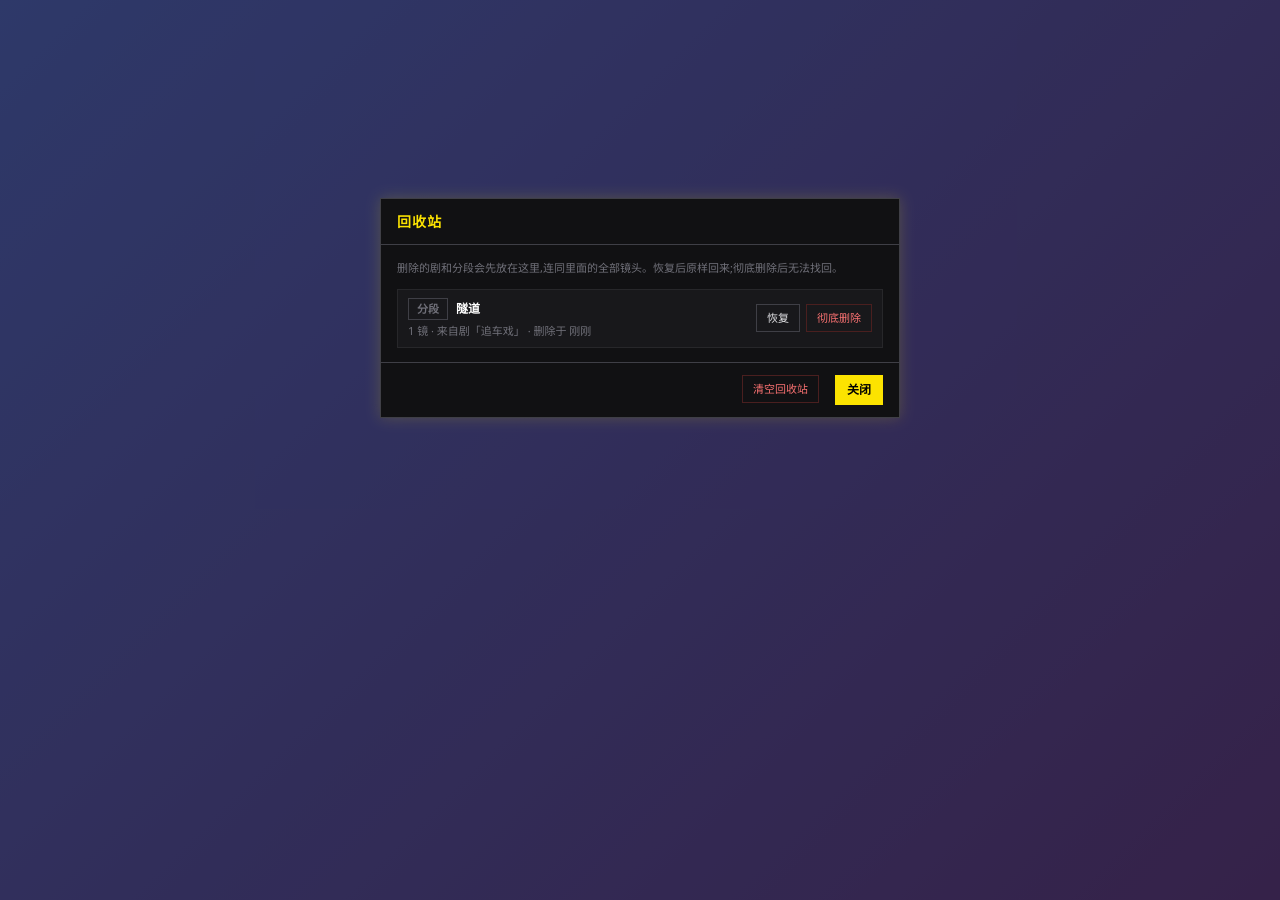
Test: TrashDialog › 彻底删除要点两下:第一下只是进入确认态,第二下才真删
Click the button with aria-label "彻底删除「隧道」".
click(839, 318)  # box top-left (806, 304), bottom-right (872, 332)
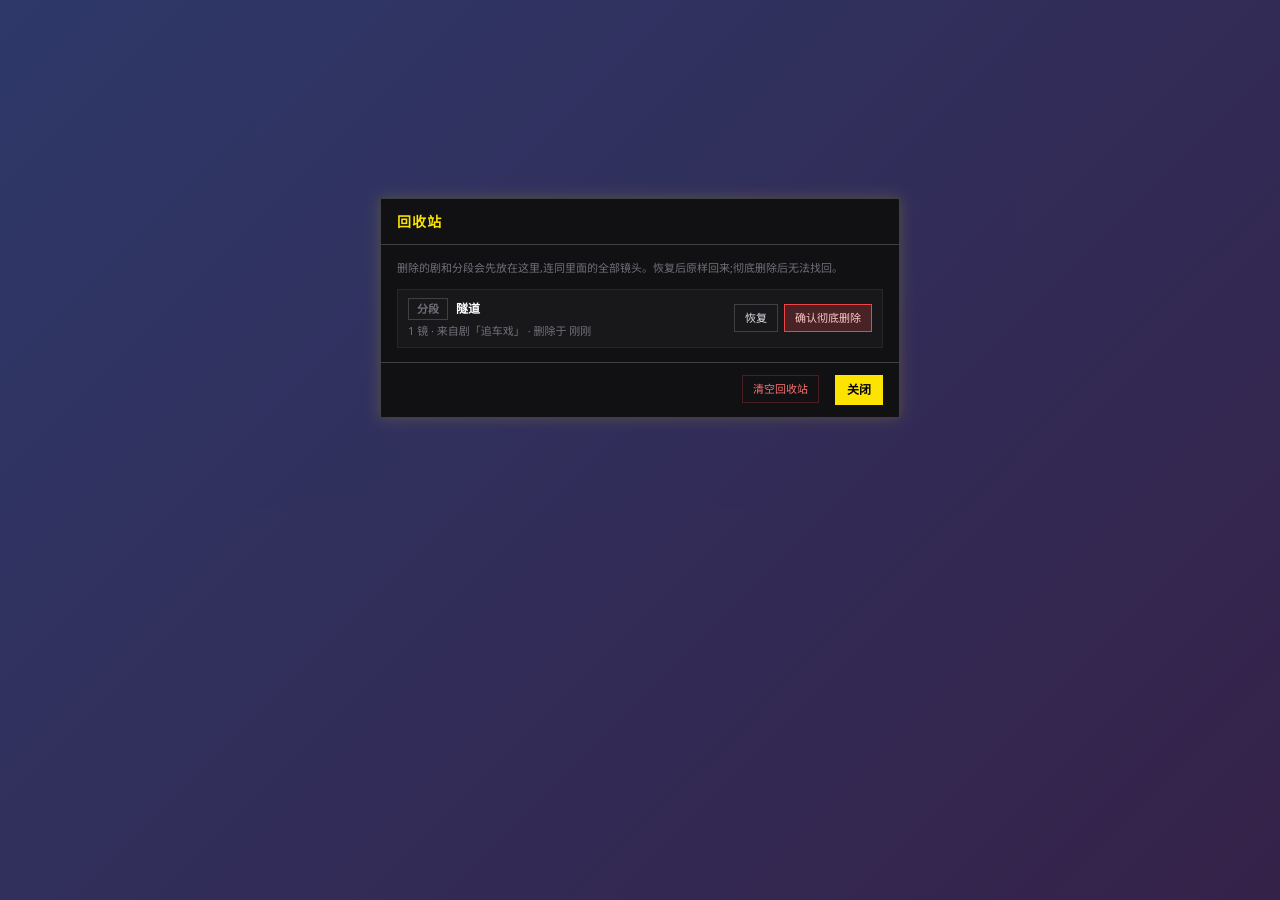
Now the button with aria-label "确认彻底删除「隧道」" has class "vw-danger-armed"
Click the button with aria-label "确认彻底删除「隧道」".
click(828, 318)  # box top-left (784, 304), bottom-right (872, 332)
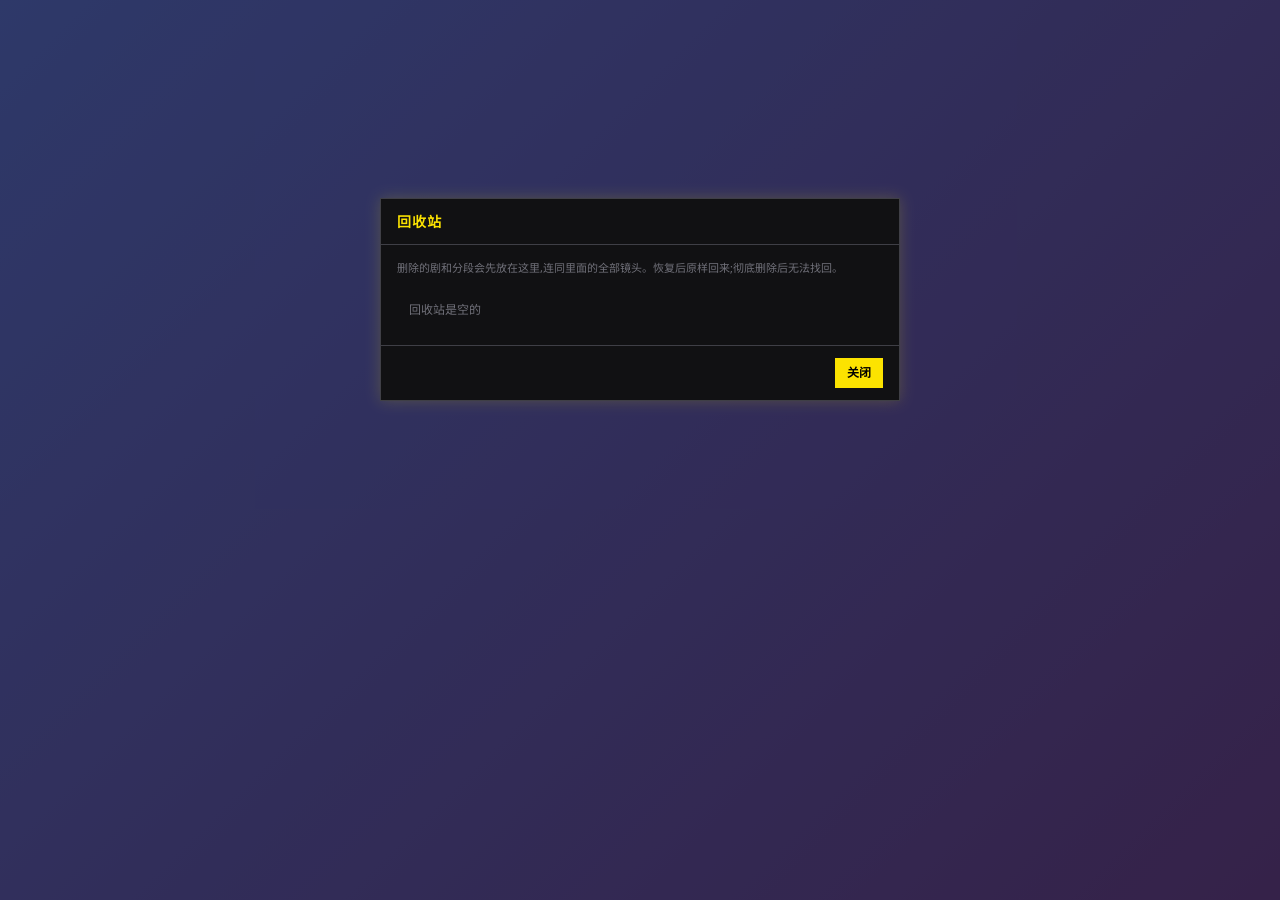
Now the text "回收站是空的" is shown, box top-left (409, 301), bottom-right (481, 318)
